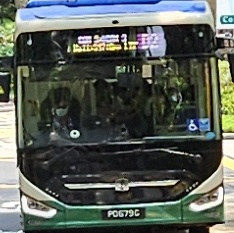bus: (136, 32, 164, 50)
